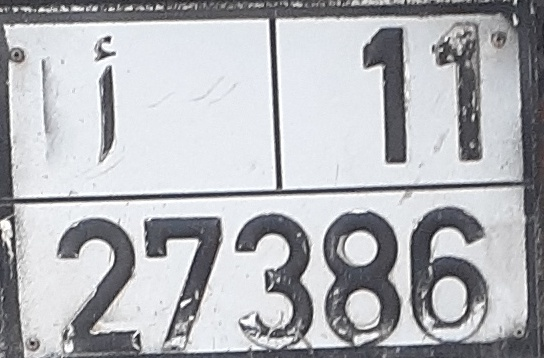1: (427, 20, 493, 166), (355, 20, 414, 170)
2: (50, 216, 145, 353)
3: (231, 210, 318, 348)
6: (408, 204, 491, 343)
7: (144, 211, 226, 352)
8: (318, 205, 405, 344)
a: (85, 30, 123, 167)
